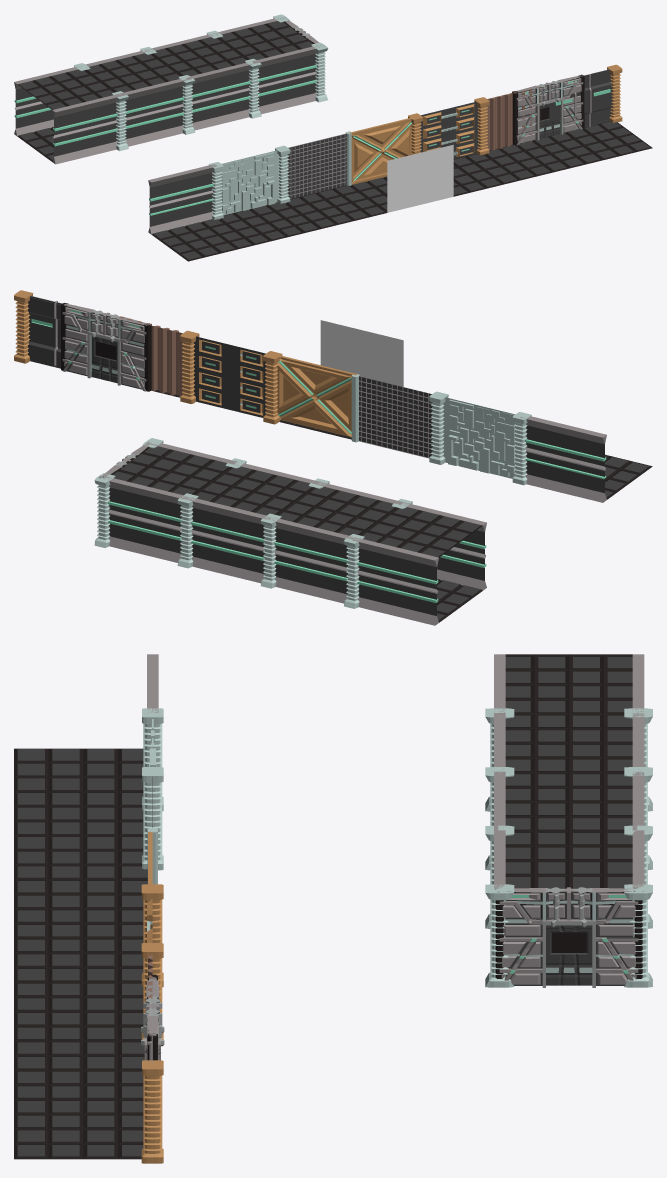
Rendered from room1.fbx.
3 views of the same model, one above another, from view 1: azimuth 30°, elevation 25°; view 2: azimuth 150°, elevation 25°; view 3: azimuth 270°, elevation 25° (orthographic). The views are drawn at different scales.
Parts seen in each view (by area): view 1: Pillar.008, Pillar.003, Pillar.007, Pillar.005, WALLg, reference wall, WALLe, WALLf, WALLd, door, WALLc, Plane.005 (+20 smaller); view 2: Pillar.009, Pillar.011, Pillar.012, Pillar.010, WALLg, WALLd, WALLe, WALLf, WALLc, door, reference wall, Plane.015 (+19 smaller); view 3: ugly pillar.003, Plane.002, Plane.004, Plane.007, Plane.005, Plane.003, Plane.006, Plane.001, Plane.013, Plane.015, Plane.014, Plane.012 (+14 smaller).
Boxes of the visible parts, box(x1,y1,x2,y2) form: Pillar.008: box(52, 91, 128, 164); Pillar.003: box(252, 42, 328, 114); Pillar.007: box(119, 75, 195, 146); Pillar.005: box(186, 58, 261, 130); WALLg: box(148, 164, 217, 234); reference wall: box(387, 144, 453, 212); WALLe: box(287, 133, 346, 198); WALLf: box(221, 150, 278, 215); WALLd: box(349, 116, 415, 184); door: box(514, 75, 583, 145); WALLc: box(420, 101, 478, 159); Plane.005: box(286, 185, 386, 228); Pillar.009: box(343, 534, 438, 625); Pillar.011: box(177, 493, 270, 583); Pillar.012: box(94, 473, 188, 562); Pillar.010: box(260, 513, 355, 603); WALLg: box(520, 416, 606, 502); WALLd: box(274, 355, 356, 436); WALLe: box(359, 376, 432, 458); WALLf: box(443, 397, 515, 478); WALLc: box(194, 336, 266, 417); door: box(62, 303, 147, 391); reference wall: box(320, 320, 403, 386); Plane.015: box(359, 507, 482, 557); ugly pillar.003: box(495, 887, 643, 987); Plane.002: box(14, 1100, 143, 1159); Plane.004: box(14, 924, 143, 983); Plane.007: box(14, 748, 143, 807); Plane.005: box(14, 866, 147, 924); Plane.003: box(14, 1042, 144, 1100); Plane.006: box(14, 807, 143, 865); Plane.001: box(14, 983, 143, 1041); Plane.013: box(505, 771, 632, 830); Plane.015: box(505, 654, 632, 712); Plane.014: box(505, 713, 632, 771); Plane.012: box(505, 830, 632, 888).
Size of the model in its own units: 2831 by 301 by 1841.
